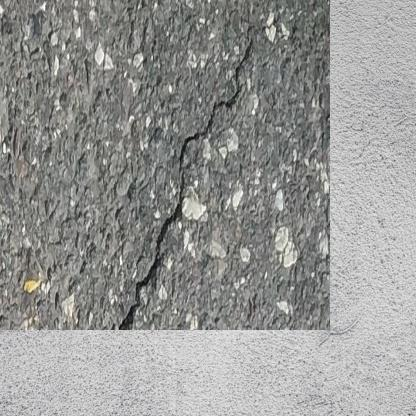Cracks: (107, 13, 262, 305)
